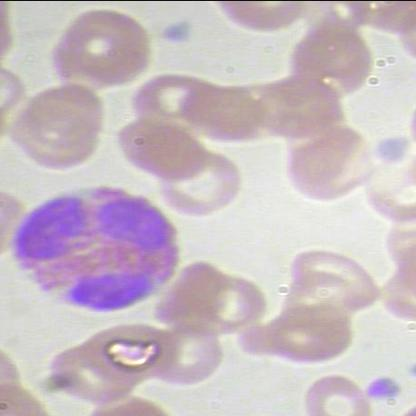Platelets: (158, 18, 200, 48), (366, 370, 398, 403)
RBC: (7, 78, 115, 172), (51, 6, 157, 86), (73, 317, 183, 387), (286, 240, 384, 311), (112, 112, 206, 182), (258, 302, 358, 366), (158, 145, 242, 218), (145, 318, 230, 388), (292, 372, 377, 416)
WBC: (0, 177, 186, 317)
